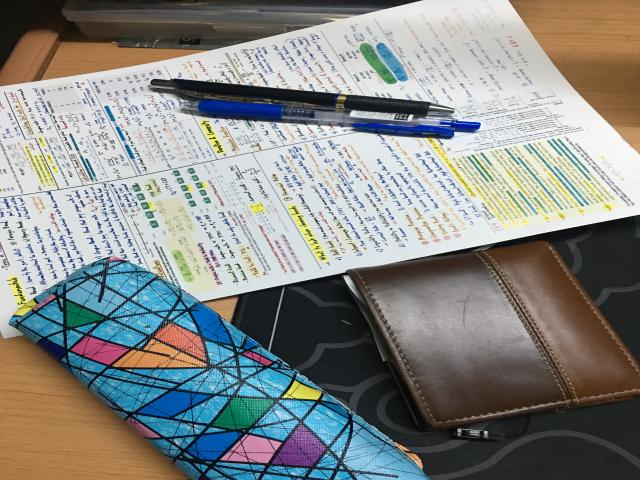Pen: (150, 79, 480, 138)
Wallet: (345, 241, 638, 429)
paper: (0, 0, 638, 337)
